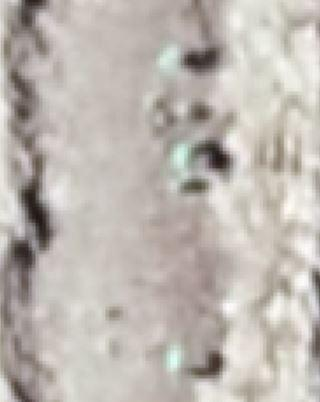cotton: (160, 47, 183, 68), (171, 144, 195, 164), (167, 346, 183, 369), (176, 177, 190, 184)
